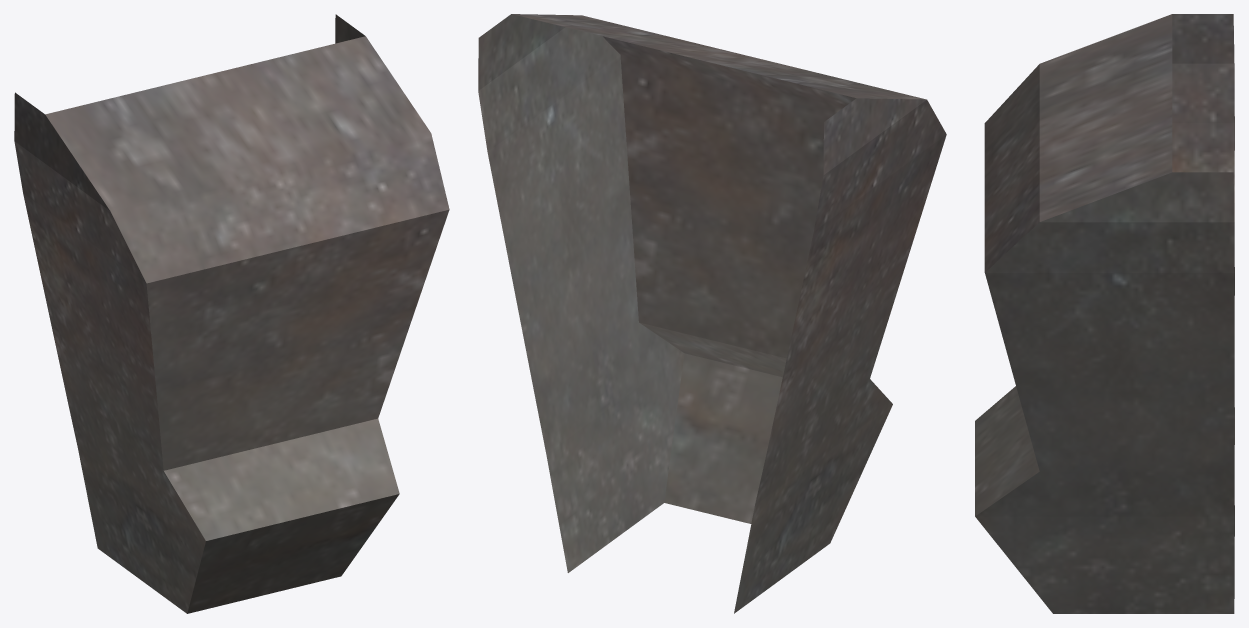
File: KeyMetalArches.fbx
3 renders of one model, left to right at view 1: azimuth 30°, elevation 25°; view 2: azimuth 150°, elevation 25°; view 3: azimuth 270°, elevation 25°, orthographic. The views are drawn at different scales.
Parts seen in each view (by area): view 1: KeyMetalArches; view 2: KeyMetalArches; view 3: KeyMetalArches.
Part boxes in pixels (bbox=[...]): KeyMetalArches: bbox=[14, 14, 449, 613]; KeyMetalArches: bbox=[478, 14, 946, 613]; KeyMetalArches: bbox=[975, 14, 1234, 613].
Size of the model in its own units: 31 by 44.05 by 21.49.
1 material, 1 textured.
